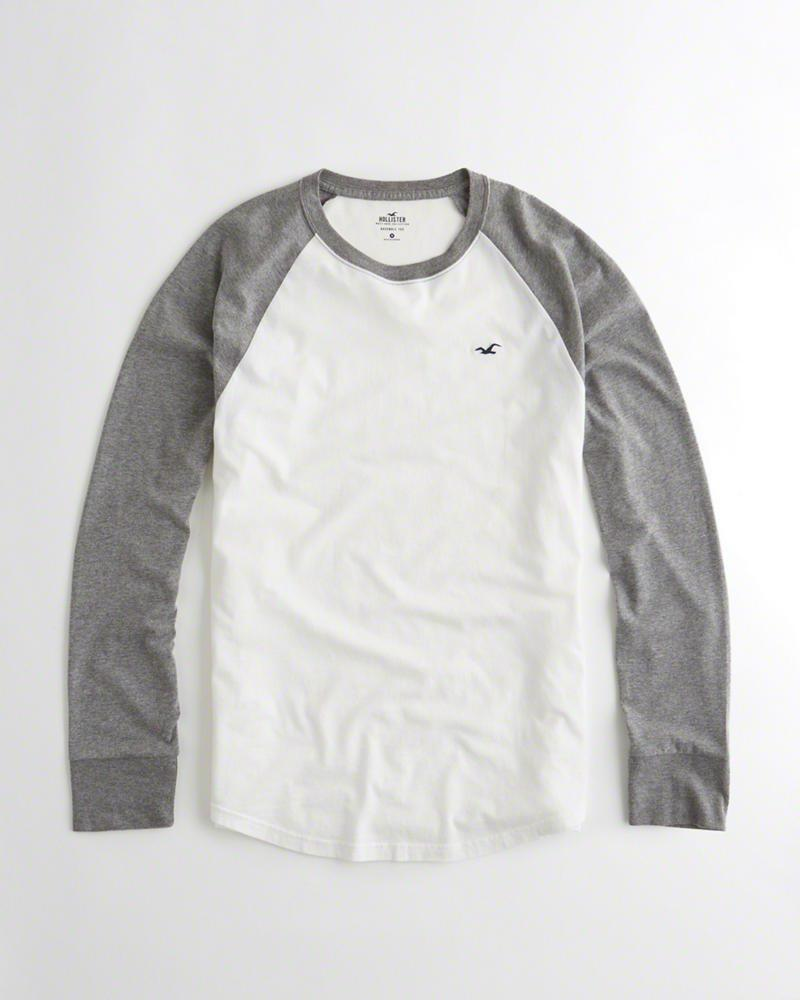teeshirt: (33, 165, 774, 1000)
